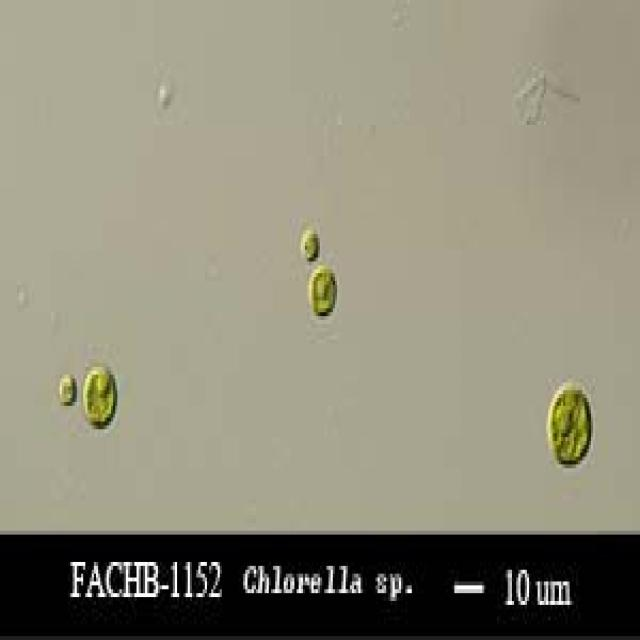Green Algae: (548, 382, 595, 472), (83, 363, 120, 429), (310, 265, 340, 320), (299, 222, 322, 262), (55, 374, 77, 414)
